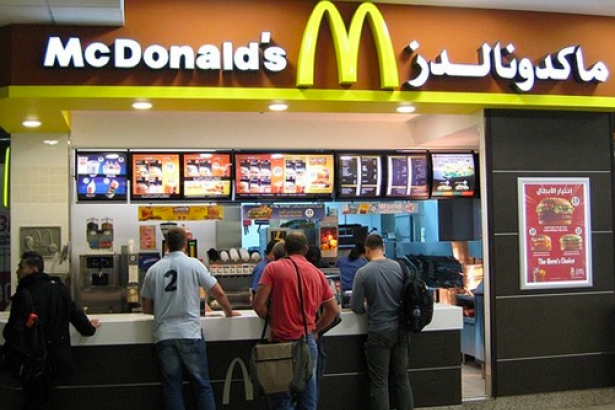mcdonalds: (294, 1, 401, 94)
